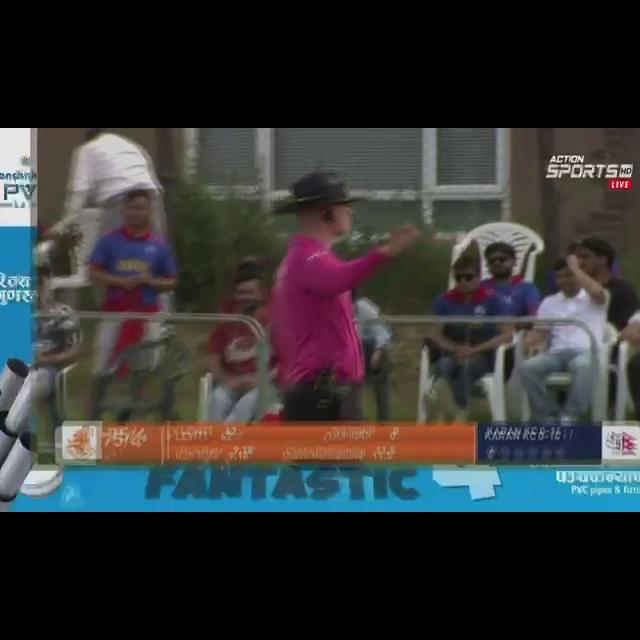umpire: (246, 150, 451, 396)
